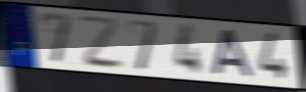4: (172, 22, 205, 79), (257, 31, 291, 83)
7: (38, 11, 74, 66), (127, 18, 158, 73)
A: (210, 28, 257, 80)
Z: (76, 15, 126, 71)
